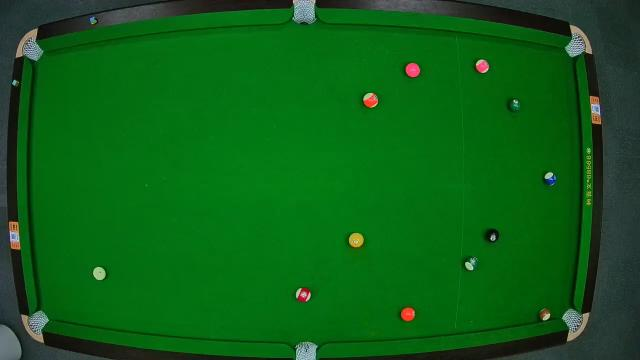bag1: (22, 38, 44, 60)
bag2: (291, 0, 317, 26)
bag3: (566, 29, 588, 57)
bag4: (29, 310, 49, 334)
bag5: (294, 340, 318, 360)
bag6: (563, 308, 585, 332)
ball0: (90, 265, 106, 279)
ball1: (348, 232, 364, 248)
ball10: (543, 172, 557, 186)
ball11: (296, 286, 312, 302)
ball12: (476, 58, 488, 74)
ball13: (364, 92, 380, 108)
ball14: (464, 256, 480, 272)
ball15: (538, 308, 552, 322)
ball4: (404, 62, 420, 78)
ball5: (401, 306, 415, 322)
ball6: (508, 98, 524, 112)
ball8: (484, 228, 500, 243)
